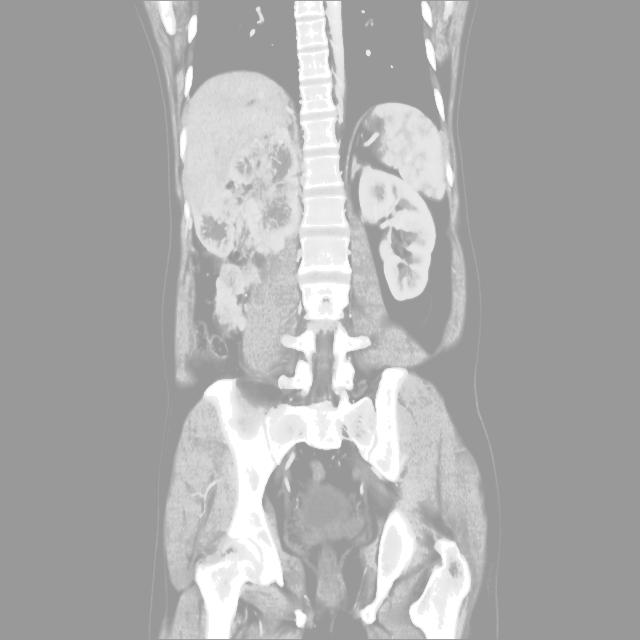TUMOR: (131, 100, 488, 328)
